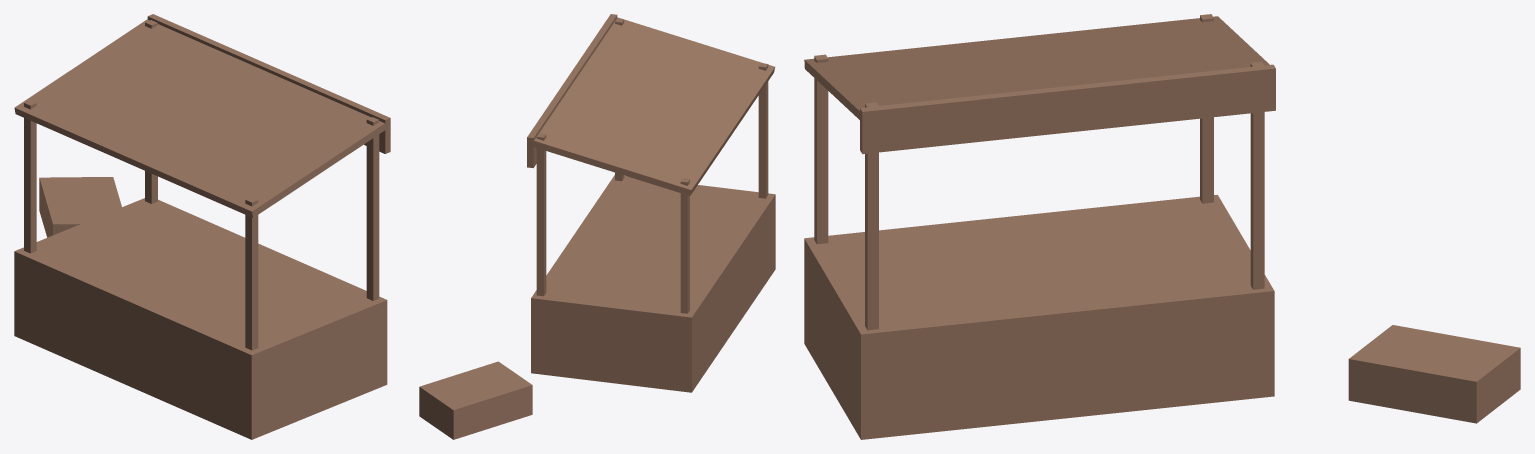
Rendered from merchStall.fbx.
3 renders of one model, left to right at view 1: azimuth 30°, elevation 25°; view 2: azimuth 150°, elevation 25°; view 3: azimuth 270°, elevation 25°, orthographic. The views are drawn at different scales.
Visible parts, largest first — view 1: base_geo, roof_geo, box_geo, sign_geo, backPole_L_geo, frontPole_L_geo, frontPole_R_geo, backPole_R_geo; view 2: base_geo, roof_geo, box_geo, backPole_R_geo, sign_geo, frontPole_L_geo, frontPole_R_geo; view 3: base_geo, roof_geo, sign_geo, box_geo, backPole_R_geo, backPole_L_geo, frontPole_L_geo, frontPole_R_geo.
Boxes of the visible parts, x1,y1,x2,y2 form: base_geo: (14, 198, 387, 439); roof_geo: (14, 19, 385, 217); box_geo: (39, 177, 121, 237); sign_geo: (147, 14, 390, 153); backPole_L_geo: (366, 117, 379, 300); frontPole_L_geo: (245, 197, 258, 350); frontPole_R_geo: (24, 100, 36, 253); backPole_R_geo: (145, 20, 157, 203); base_geo: (531, 175, 775, 392); roof_geo: (532, 17, 775, 195); box_geo: (419, 361, 532, 439); backPole_R_geo: (536, 133, 546, 296); sign_geo: (527, 14, 617, 168); frontPole_L_geo: (758, 63, 768, 198); frontPole_R_geo: (680, 178, 689, 313); base_geo: (804, 194, 1274, 439); roof_geo: (804, 16, 1269, 119); sign_geo: (860, 64, 1275, 154); box_geo: (1348, 325, 1520, 423); backPole_R_geo: (1250, 61, 1264, 289); backPole_L_geo: (865, 102, 878, 330); frontPole_L_geo: (814, 54, 828, 244); frontPole_R_geo: (1200, 14, 1213, 203).
Size of the model in its own units: 2.89 by 3.13 by 6.16.
